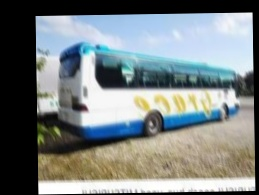bus: (54, 40, 244, 139)
